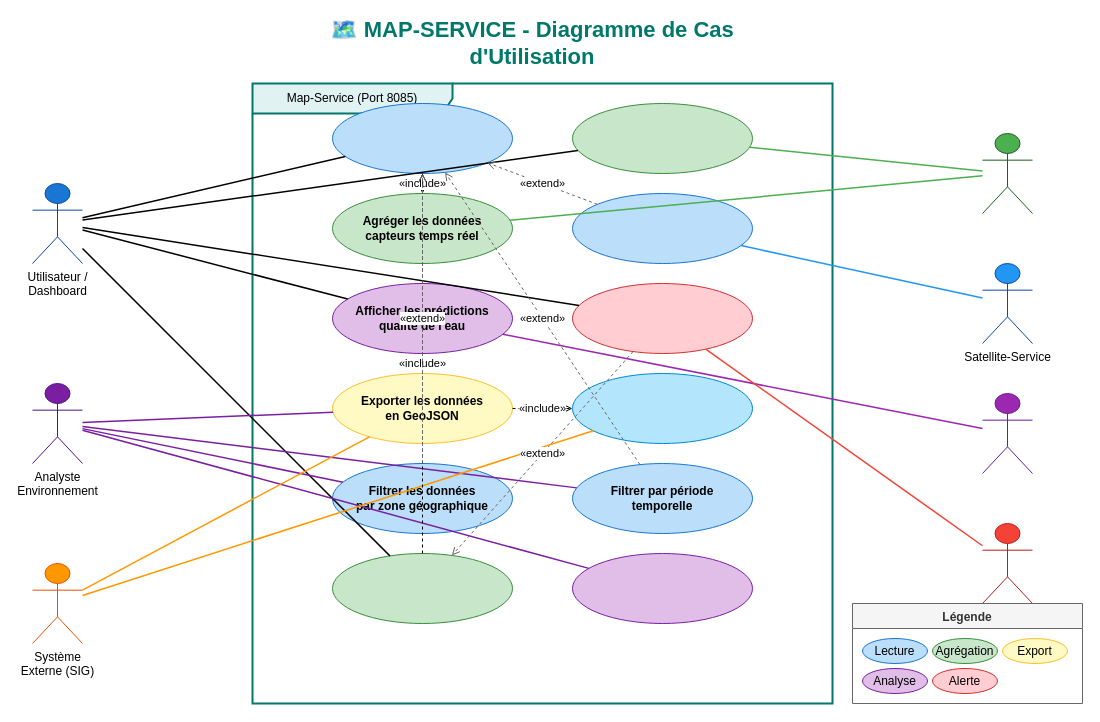
Image size: 1100x722. Some labels were removed from this diagram. The centre of each missing label's shape, as x and y in pixels:
Afficher la carte interactive: pixel 422 138
Afficher les alertes géolocalisées: pixel 662 318
Analyser les statistiques spatiales: pixel 662 588
Consulter le tableau de bord: pixel 422 588
Générer une FeatureCollection: pixel 662 408
Intégrer les couches satellites (NDWI): pixel 662 228
Localiser les stations de mesure: pixel 662 138
Sensor-Service: pixel 1007 173
STModel-Service: pixel 1007 433
